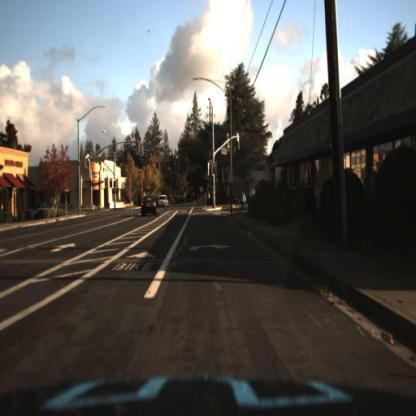biker: (92, 197, 103, 213)
car: (235, 184, 263, 207), (31, 201, 58, 219), (142, 194, 160, 219), (157, 195, 172, 210), (159, 194, 169, 204)
pedestrian: (240, 188, 249, 215)
trafficLight-Red: (211, 161, 218, 179), (175, 154, 180, 167), (176, 155, 180, 167)
trafficLight-RedLeft: (110, 176, 115, 188), (156, 159, 160, 171)
